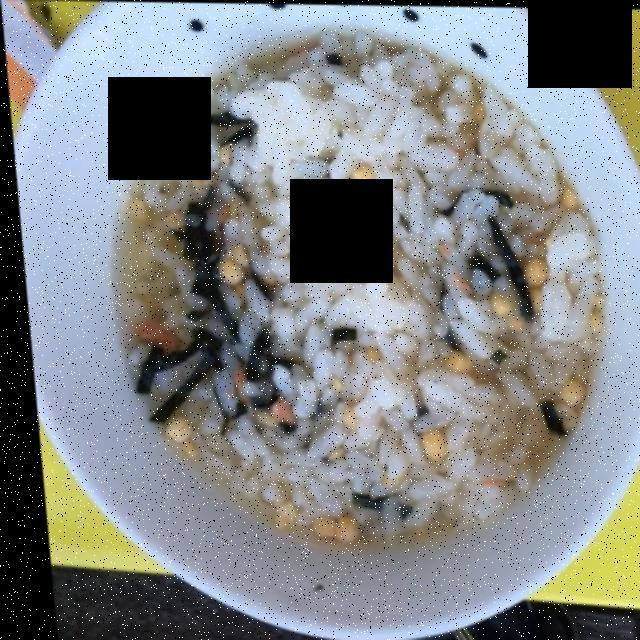rice: (116, 42, 591, 537)
